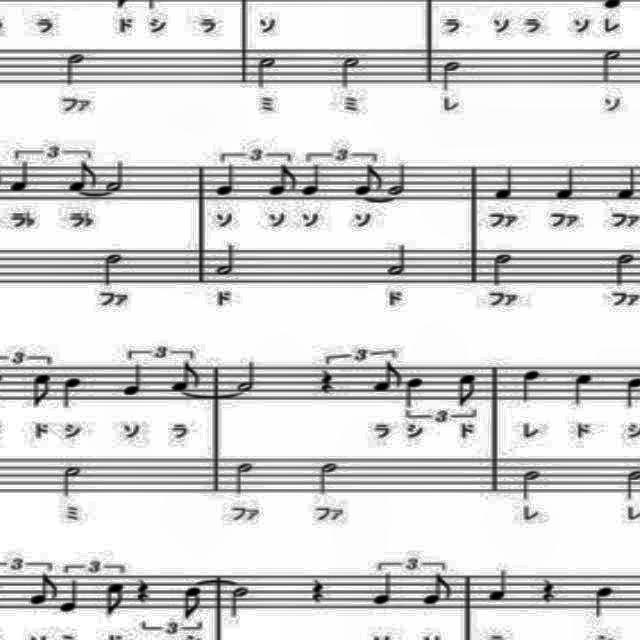Eighth-note: (263, 158, 299, 202), (165, 359, 205, 395), (368, 360, 404, 400), (420, 570, 452, 614), (65, 154, 101, 193), (24, 369, 56, 411), (27, 572, 59, 612), (354, 160, 386, 200), (102, 577, 128, 621), (180, 582, 208, 622)
Half-note: (247, 47, 285, 93), (210, 238, 246, 282), (516, 465, 552, 507), (383, 234, 413, 284), (100, 155, 132, 197), (384, 152, 412, 200), (484, 245, 516, 287), (55, 458, 89, 497), (611, 247, 639, 293), (231, 453, 259, 499), (598, 43, 628, 85), (101, 243, 127, 291), (314, 454, 342, 498), (226, 580, 254, 624), (338, 51, 368, 91), (59, 48, 90, 86), (232, 358, 260, 394), (438, 57, 464, 95)
Quarter-note: (512, 357, 548, 408), (481, 563, 517, 609), (117, 356, 149, 404), (400, 369, 430, 417), (586, 582, 622, 622), (550, 157, 578, 207), (568, 362, 596, 411), (610, 160, 638, 208), (297, 159, 327, 201), (490, 162, 518, 206), (58, 372, 86, 416), (54, 574, 84, 614), (368, 570, 398, 610), (212, 158, 240, 198), (4, 158, 32, 196)
Quarter-rest: (534, 576, 562, 608), (306, 572, 328, 608), (130, 574, 154, 606), (316, 365, 338, 399)
